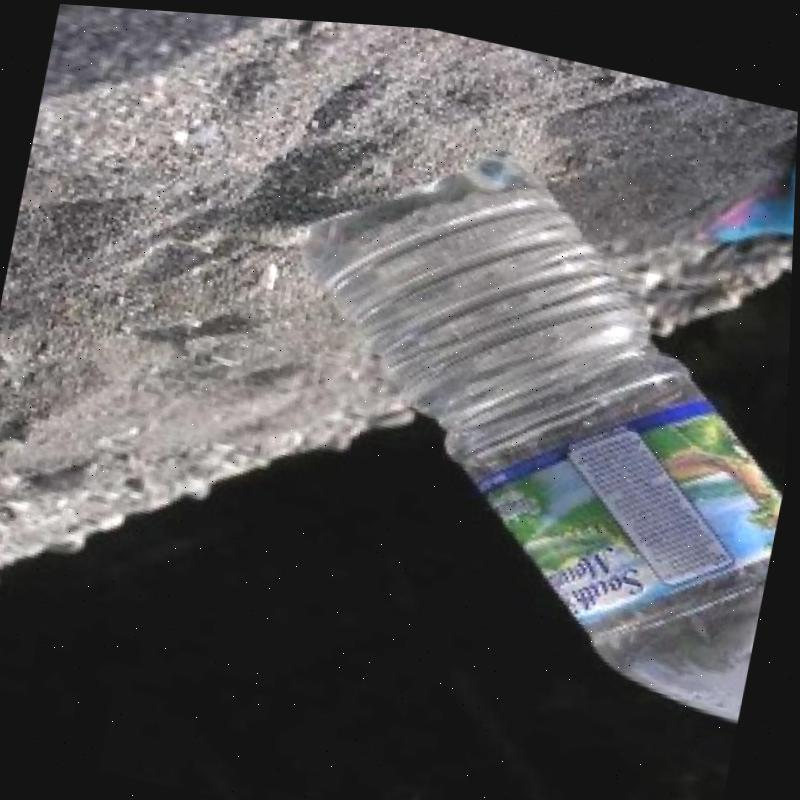botella: (228, 101, 797, 717)
